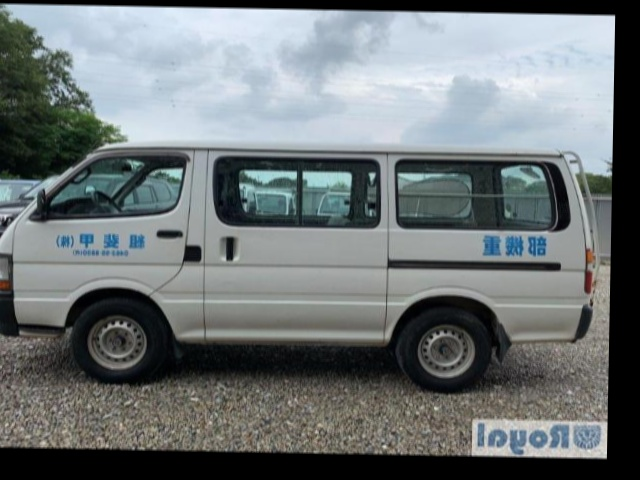van: (0, 126, 601, 394)
